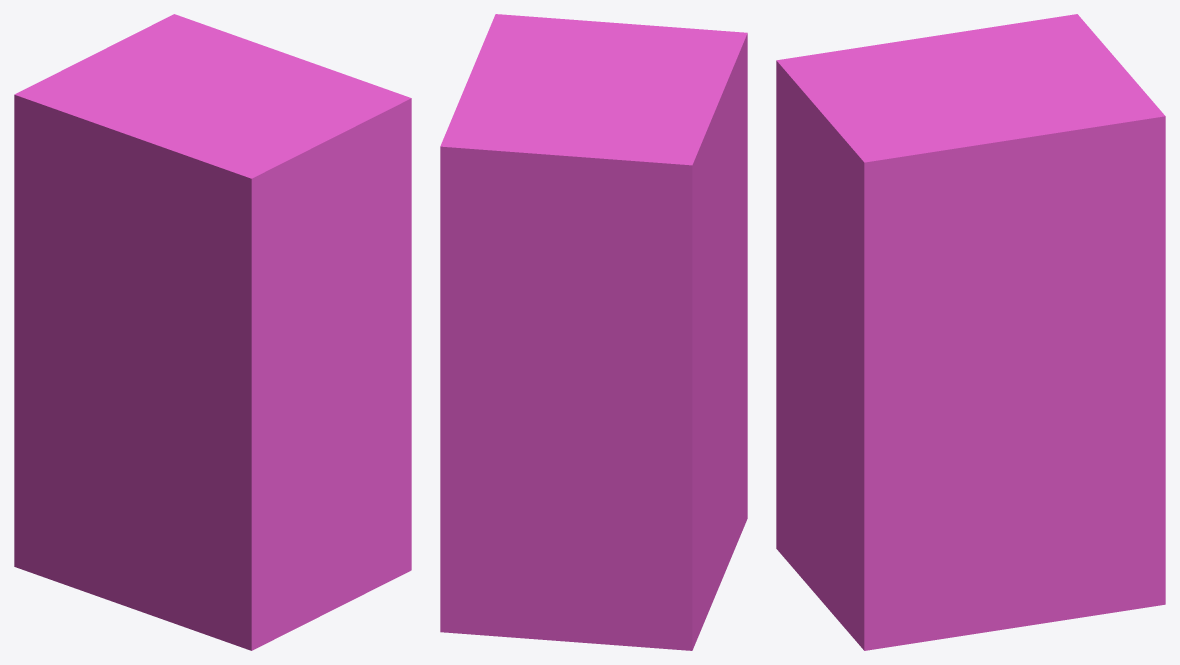
3 renders of one model, left to right at view 1: azimuth 30°, elevation 25°; view 2: azimuth 150°, elevation 25°; view 3: azimuth 270°, elevation 25°, orthographic. The views are drawn at different scales.
Parts seen in each view (by area): view 1: 1033; view 2: 1033; view 3: 1033.
Boxes of the visible parts, x1,y1,x2,y2 form: 1033: [14, 14, 411, 650]; 1033: [440, 14, 747, 650]; 1033: [776, 14, 1165, 650].
Bounding box in the file's own units: 3.92 × 6 × 4.33.
